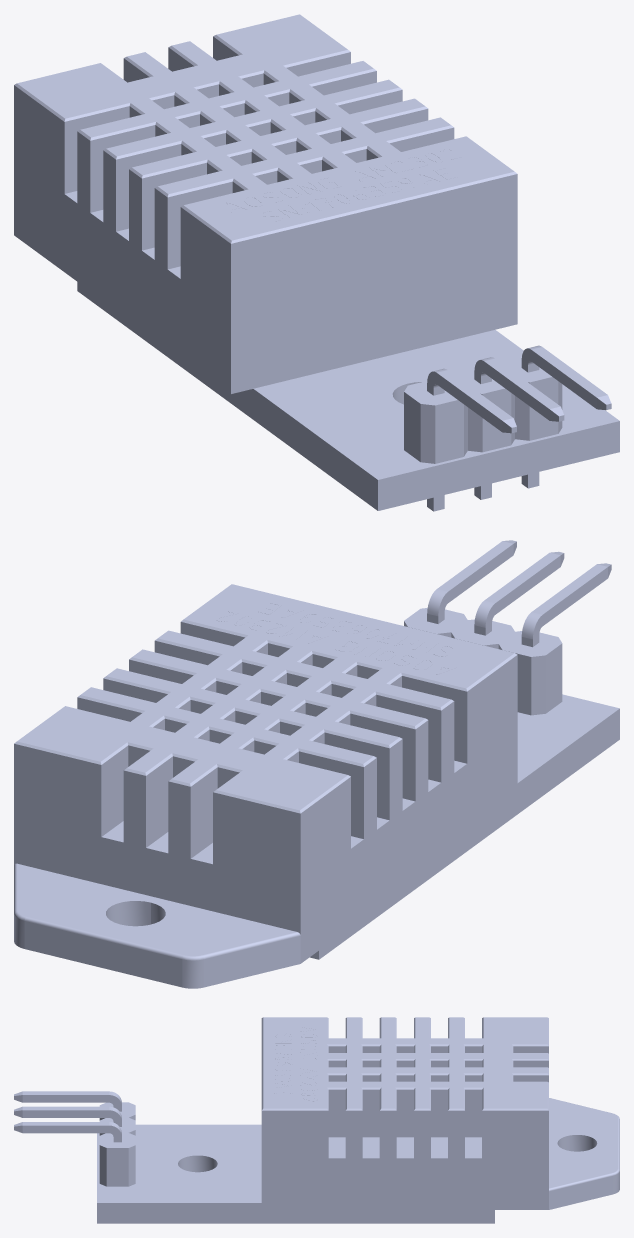
Rendered from TemperatureMoistureSensor.glb.
3 views of the same model, one above another, from view 1: azimuth 30°, elevation 25°; view 2: azimuth 150°, elevation 25°; view 3: azimuth 270°, elevation 25° (orthographic). The views are drawn at different scales.
Parts seen in each view (by area): view 1: B76D0C7B-44AF-4D4C-B688-6734D4A94CFB; view 2: B76D0C7B-44AF-4D4C-B688-6734D4A94CFB; view 3: B76D0C7B-44AF-4D4C-B688-6734D4A94CFB.
Boxes of the visible parts, bbox=[...] form: B76D0C7B-44AF-4D4C-B688-6734D4A94CFB: bbox=[14, 14, 619, 511]; B76D0C7B-44AF-4D4C-B688-6734D4A94CFB: bbox=[14, 540, 619, 988]; B76D0C7B-44AF-4D4C-B688-6734D4A94CFB: bbox=[14, 1017, 619, 1223].
Bounding box in the file's own units: 15.4 × 10.77 × 42.63.
